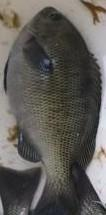fish: (3, 6, 105, 214)
